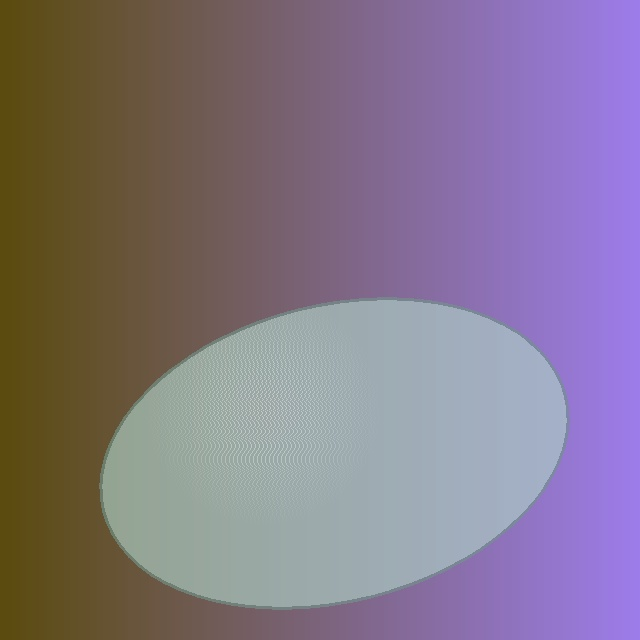lens: (102, 299, 566, 607)
